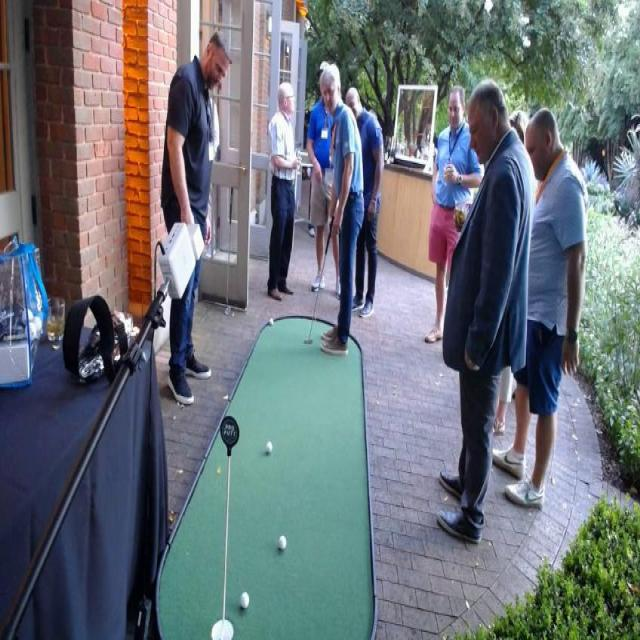ClubHead: (301, 324, 319, 352)
GolfBall: (234, 586, 254, 614), (274, 528, 290, 555), (259, 432, 275, 457), (263, 311, 278, 334)
